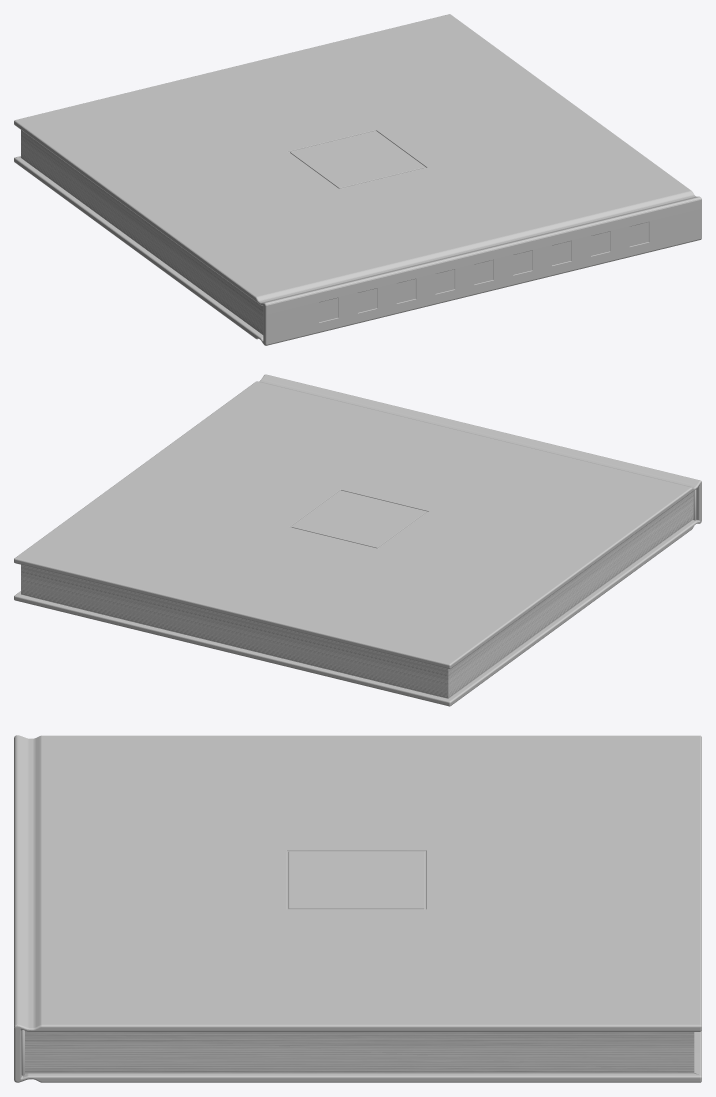
The model's file is new_book_v02.glb.
The picture shows the model from 3 angles, top to bottom: view 1: azimuth 30°, elevation 25°; view 2: azimuth 150°, elevation 25°; view 3: azimuth 270°, elevation 25°; orthographic projection. The views are drawn at different scales.
Visible parts, largest first — view 1: 有字.002, Cube.001; view 2: 有字.002, Cube.001; view 3: 有字.002, Cube.001.
Part boxes in pixels (bbox=[...]): 有字.002: bbox=[14, 14, 701, 345]; Cube.001: bbox=[21, 130, 263, 334]; 有字.002: bbox=[14, 374, 701, 706]; Cube.001: bbox=[21, 491, 693, 698]; 有字.002: bbox=[14, 735, 701, 1082]; Cube.001: bbox=[25, 1031, 694, 1073].
Size of the model in its own units: 0.27 by 0.0252 by 0.27.
3 materials, 1 textured.
